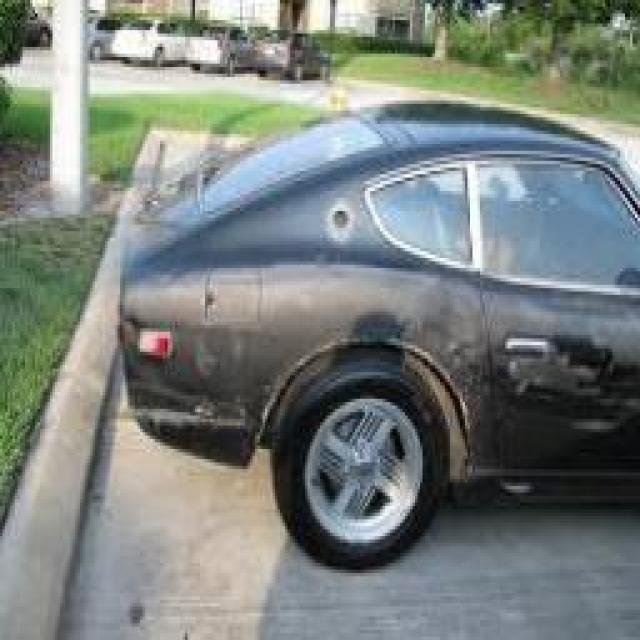rapairable: (191, 331, 265, 461), (127, 365, 181, 434)
replaceable: (506, 324, 625, 436), (330, 199, 353, 240)
